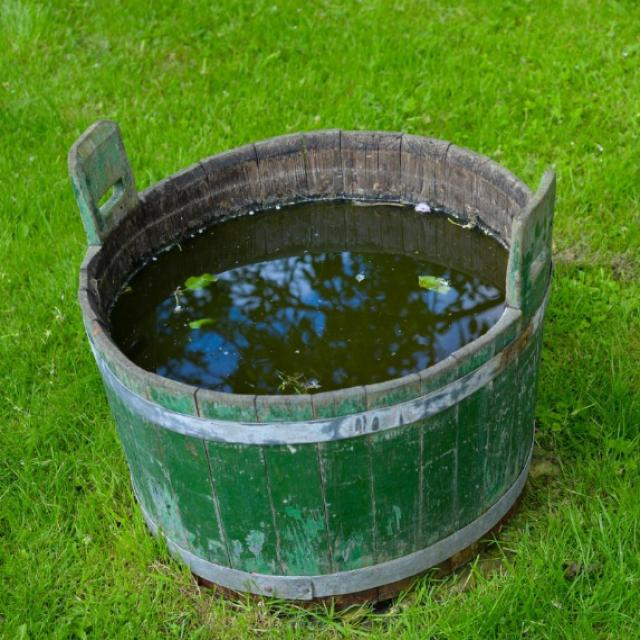Breeding Place: (58, 123, 558, 639)
